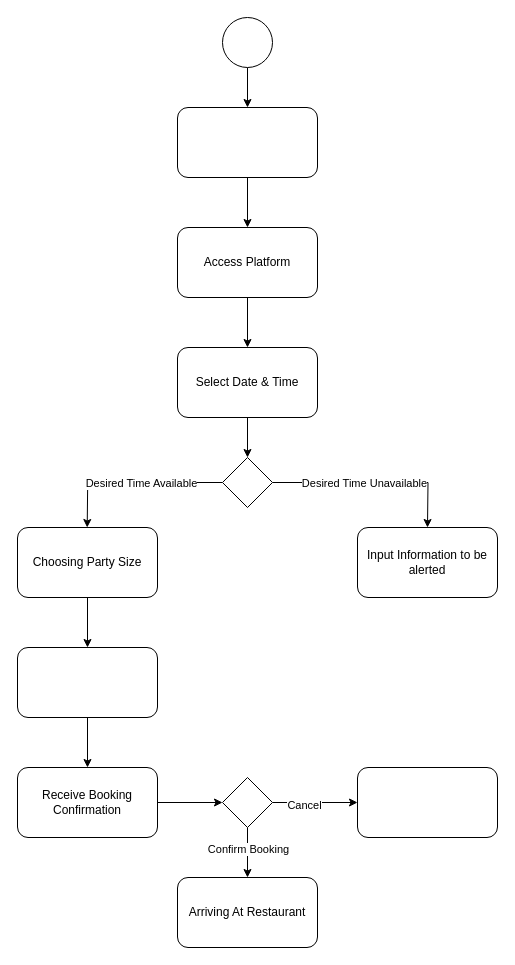
The diagram is 515 pixels wide and 965 high, and some of its shapes have lost their labels. Each missing label, with the centre of its shape:
Discovery: point (247, 142)
Providing Contact Information: point (87, 682)
Receive Cancellation Message: point (427, 802)
